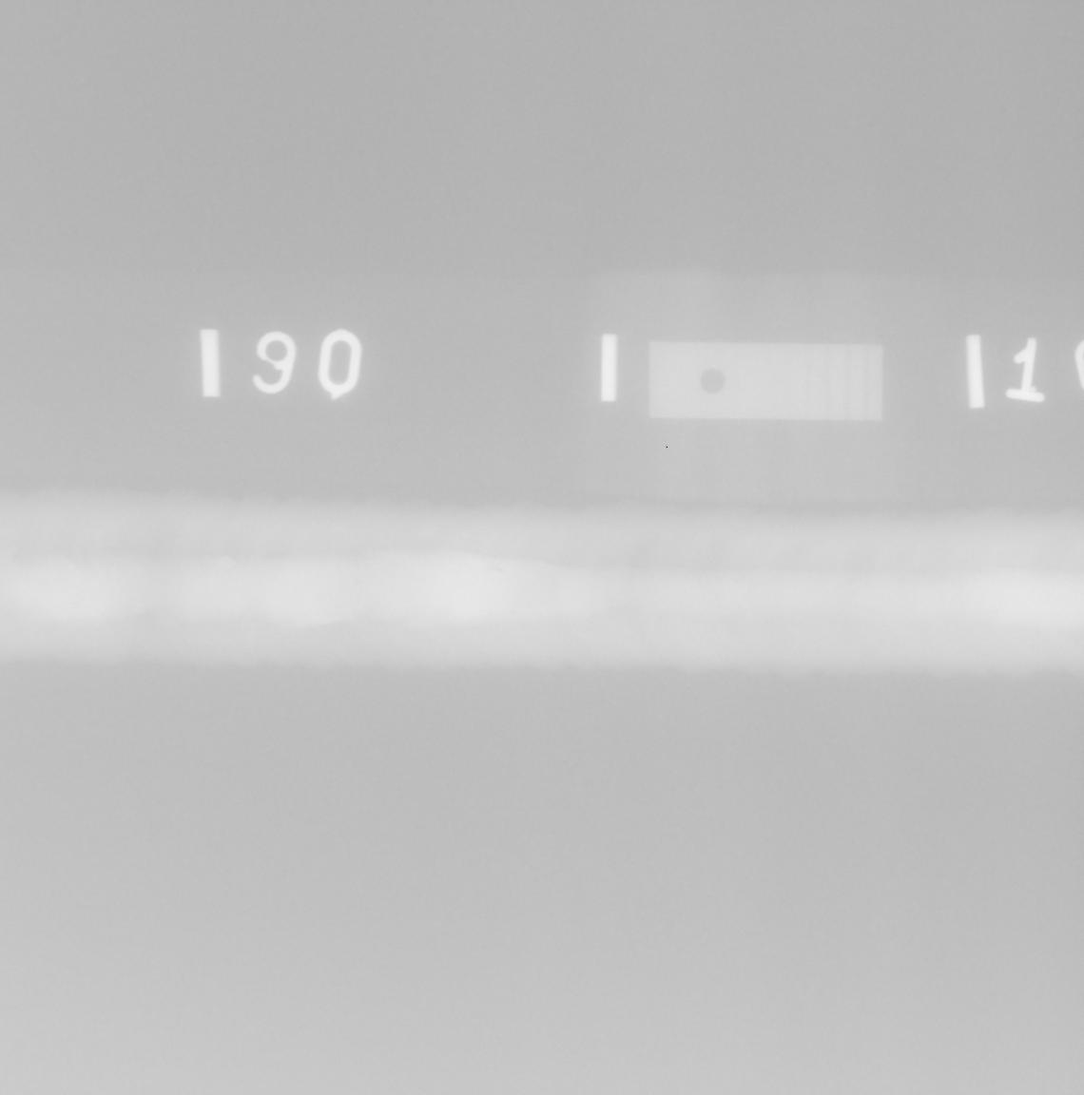Inclusion: (482, 566, 501, 572)
Pore/Porosity: (353, 580, 359, 584)
Reference Standard 1: (648, 341, 882, 420)
